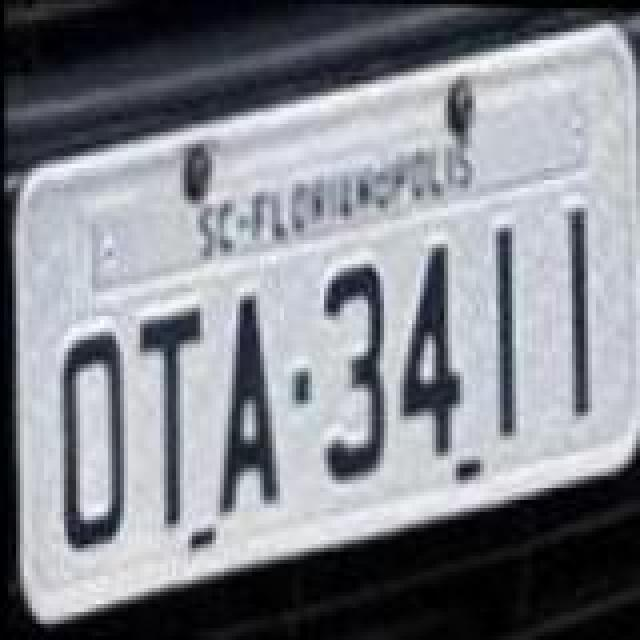1: (562, 204, 598, 420), (492, 224, 524, 444)
3: (318, 258, 394, 482)
4: (394, 236, 470, 460)
A: (208, 294, 284, 522)
O: (54, 330, 130, 558)
T: (132, 304, 208, 532)
